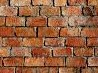brick: (15, 26, 36, 37), (27, 15, 47, 26), (48, 16, 68, 27), (37, 27, 59, 37), (1, 37, 22, 47), (19, 5, 39, 15), (5, 16, 25, 26), (73, 46, 93, 56), (69, 17, 91, 26), (53, 47, 72, 57), (59, 27, 80, 36), (23, 38, 44, 47), (3, 57, 24, 66), (40, 6, 60, 15), (62, 6, 82, 15), (80, 27, 98, 37), (45, 57, 65, 66), (67, 57, 87, 66), (33, 47, 52, 56), (1, 6, 18, 16), (45, 38, 66, 46), (1, 26, 15, 37), (12, 48, 31, 56), (25, 57, 44, 65), (67, 38, 87, 45), (88, 57, 98, 66), (9, 1, 30, 5), (32, 1, 52, 5), (1, 48, 11, 56), (87, 39, 98, 46), (68, 1, 86, 5), (1, 66, 15, 71), (54, 1, 65, 5)
